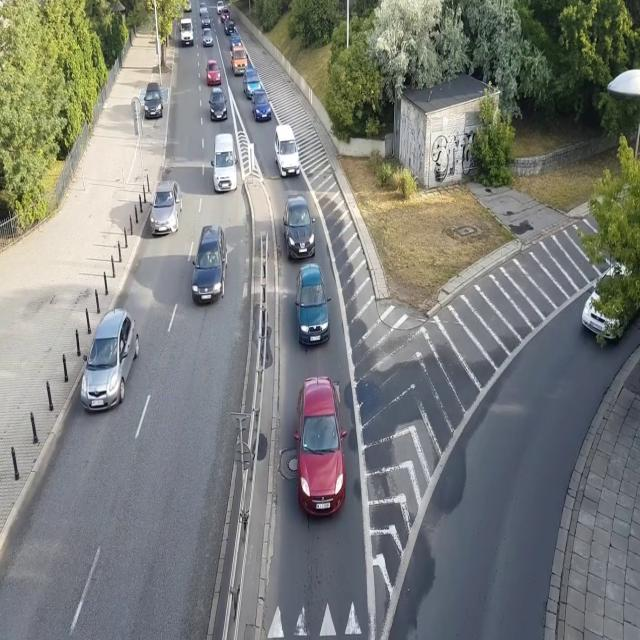car: (292, 374, 348, 516), (80, 305, 140, 416), (581, 258, 640, 340), (293, 263, 332, 347), (191, 224, 228, 306), (282, 192, 317, 259), (148, 179, 183, 237), (142, 84, 164, 118), (208, 88, 228, 122), (252, 90, 271, 124), (243, 67, 262, 100), (205, 59, 222, 88), (202, 26, 214, 48), (200, 10, 212, 29), (229, 33, 243, 49), (224, 20, 236, 34), (198, 1, 208, 16), (215, 0, 225, 15), (220, 8, 230, 21), (182, 2, 193, 11)
truck: (230, 45, 249, 75)
van: (210, 131, 238, 194), (274, 122, 302, 178), (179, 17, 195, 48)
